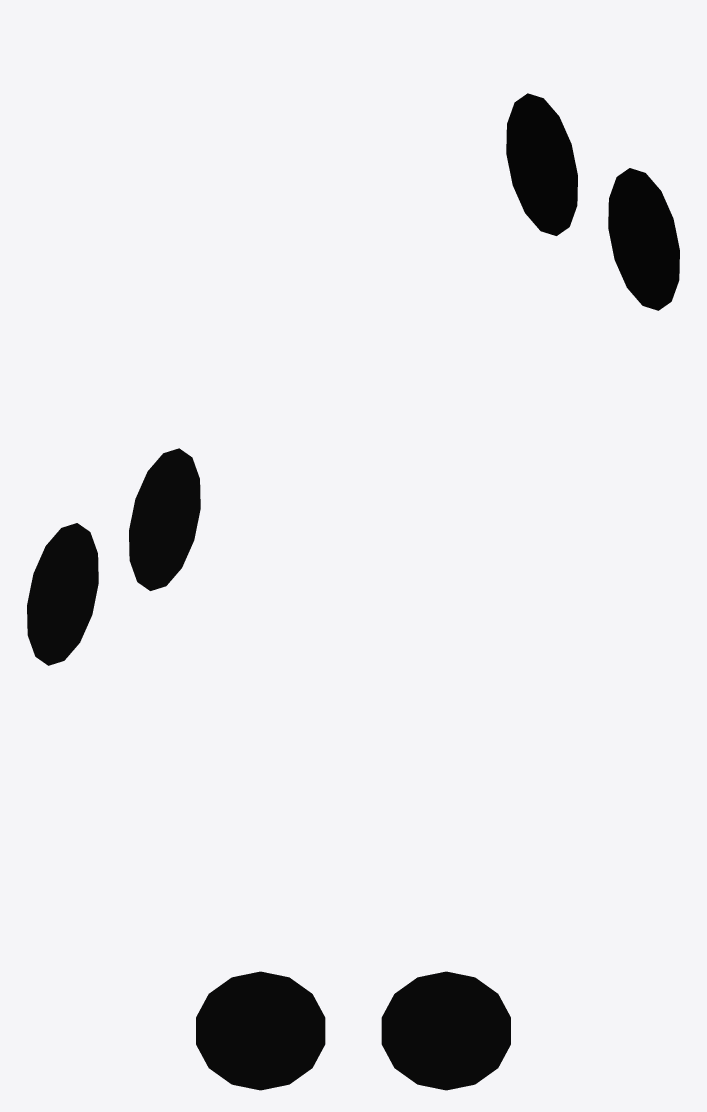
File: ROUND SUNGLASSES.fbx
3 views of the same model, one above another, from view 1: azimuth 30°, elevation 25°; view 2: azimuth 150°, elevation 25°; view 3: azimuth 270°, elevation 25° (orthographic). The views are drawn at different scales.
Parts seen in each view (by area): view 1: ROUND_SUNGLASSES; view 2: ROUND_SUNGLASSES; view 3: ROUND_SUNGLASSES.
Part boxes in pixels (left/top/right/bottom): ROUND_SUNGLASSES: left=506, top=93, right=679, bottom=310; ROUND_SUNGLASSES: left=27, top=448, right=200, bottom=665; ROUND_SUNGLASSES: left=196, top=971, right=510, bottom=1090.
Size of the model in its own units: 15.72 by 8.39 by 25.71.
